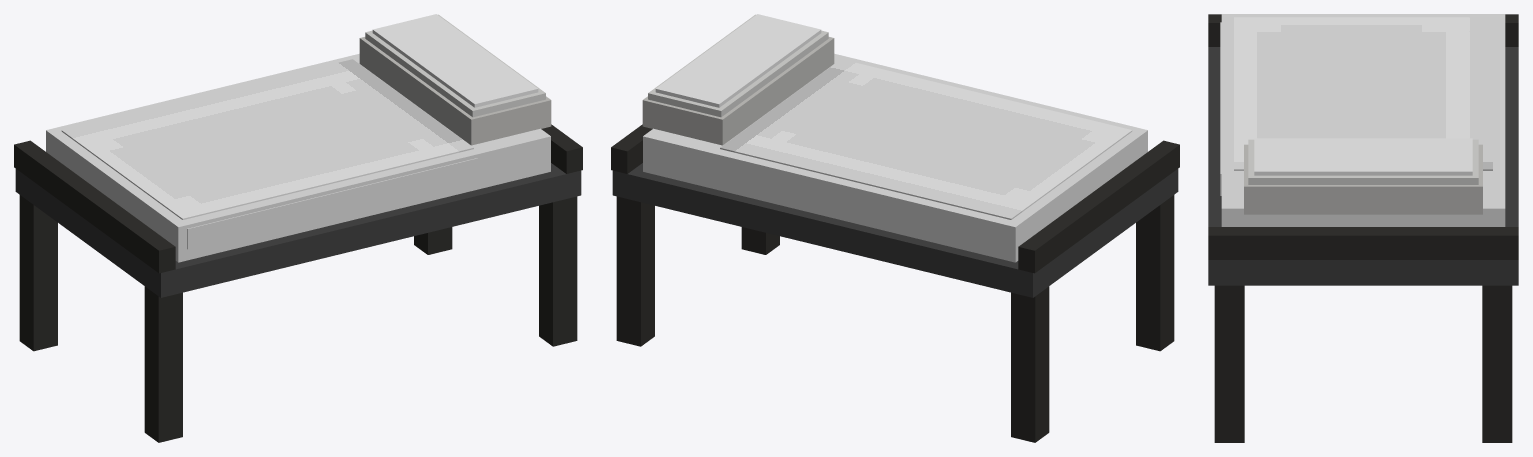
Rendered from CMU3DBed.glb.
The picture shows the model from 3 angles, left to right: view 1: azimuth 30°, elevation 25°; view 2: azimuth 150°, elevation 25°; view 3: azimuth 270°, elevation 25°; orthographic projection. The views are drawn at different scales.
Visible parts, largest first — view 1: Blanket source pixels, frame leg (×4), bed frame, mattress, frame end lip (×2), pillow face, blanket front fold, pillow, pillow upper cushion; view 2: Blanket source pixels, mattress, frame leg (×4), bed frame, frame end lip (×2), pillow face, pillow, pillow upper cushion; view 3: Blanket source pixels, bed frame, frame end lip (×2), mattress, frame leg (×2), pillow face, pillow, pillow upper cushion, blanket front fold.
Part boxes in pixels (left/top/right/bottom): Blanket source pixels: left=61, top=59, right=473, bottom=219; frame leg (×4): left=19, top=195, right=577, bottom=442; bed frame: left=15, top=163, right=581, bottom=297; mattress: left=46, top=53, right=550, bottom=262; frame end lip (×2): left=14, top=124, right=582, bottom=273; pillow face: left=372, top=14, right=538, bottom=107; blanket front fold: left=187, top=158, right=477, bottom=249; pillow: left=359, top=37, right=551, bottom=145; pillow upper cushion: left=365, top=14, right=545, bottom=117; Blanket source pixels: left=720, top=59, right=1132, bottom=219; mattress: left=643, top=53, right=1147, bottom=262; frame leg (×4): left=616, top=195, right=1174, bottom=442; bed frame: left=612, top=163, right=1178, bottom=297; frame end lip (×2): left=611, top=124, right=1179, bottom=273; pillow face: left=655, top=14, right=821, bottom=107; pillow: left=642, top=37, right=834, bottom=145; pillow upper cushion: left=648, top=14, right=828, bottom=117; Blanket source pixels: left=1234, top=17, right=1492, bottom=170; bed frame: left=1208, top=47, right=1518, bottom=285; frame end lip (×2): left=1208, top=14, right=1518, bottom=259; mattress: left=1221, top=14, right=1505, bottom=226; frame leg (×2): left=1214, top=285, right=1512, bottom=442; pillow face: left=1254, top=138, right=1472, bottom=175; pillow: left=1244, top=144, right=1482, bottom=214; pillow upper cushion: left=1248, top=139, right=1478, bottom=184; blanket front fold: left=1220, top=22, right=1221, bottom=195.
Bounding box in the file's own units: 0.978 × 0.537 × 0.58.
7 materials, 1 textured.
